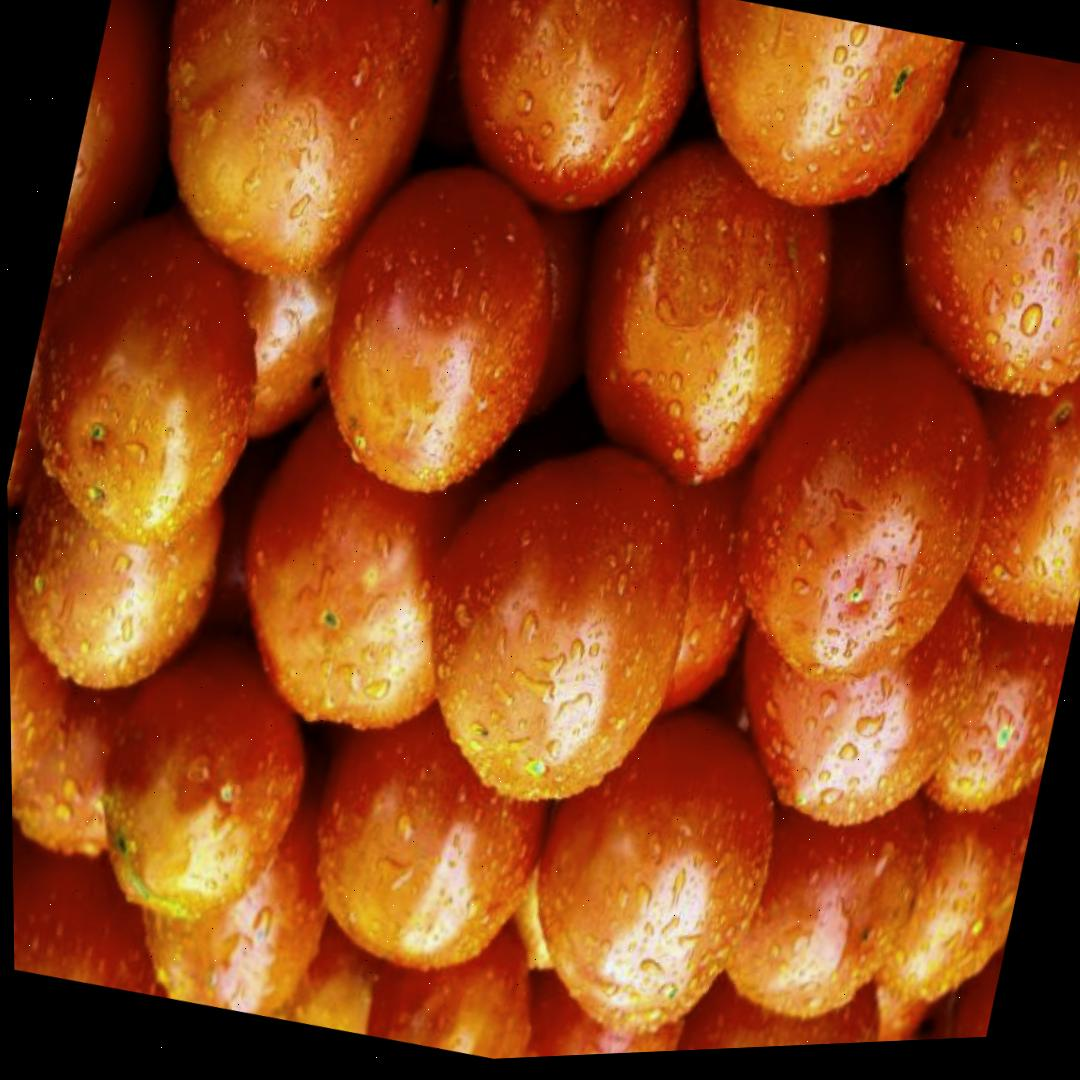matang: (392, 411, 722, 836), (544, 110, 862, 513), (709, 304, 1020, 714), (504, 676, 802, 1058), (3, 186, 295, 572), (293, 138, 587, 521), (71, 610, 335, 944), (861, 29, 1080, 426)
